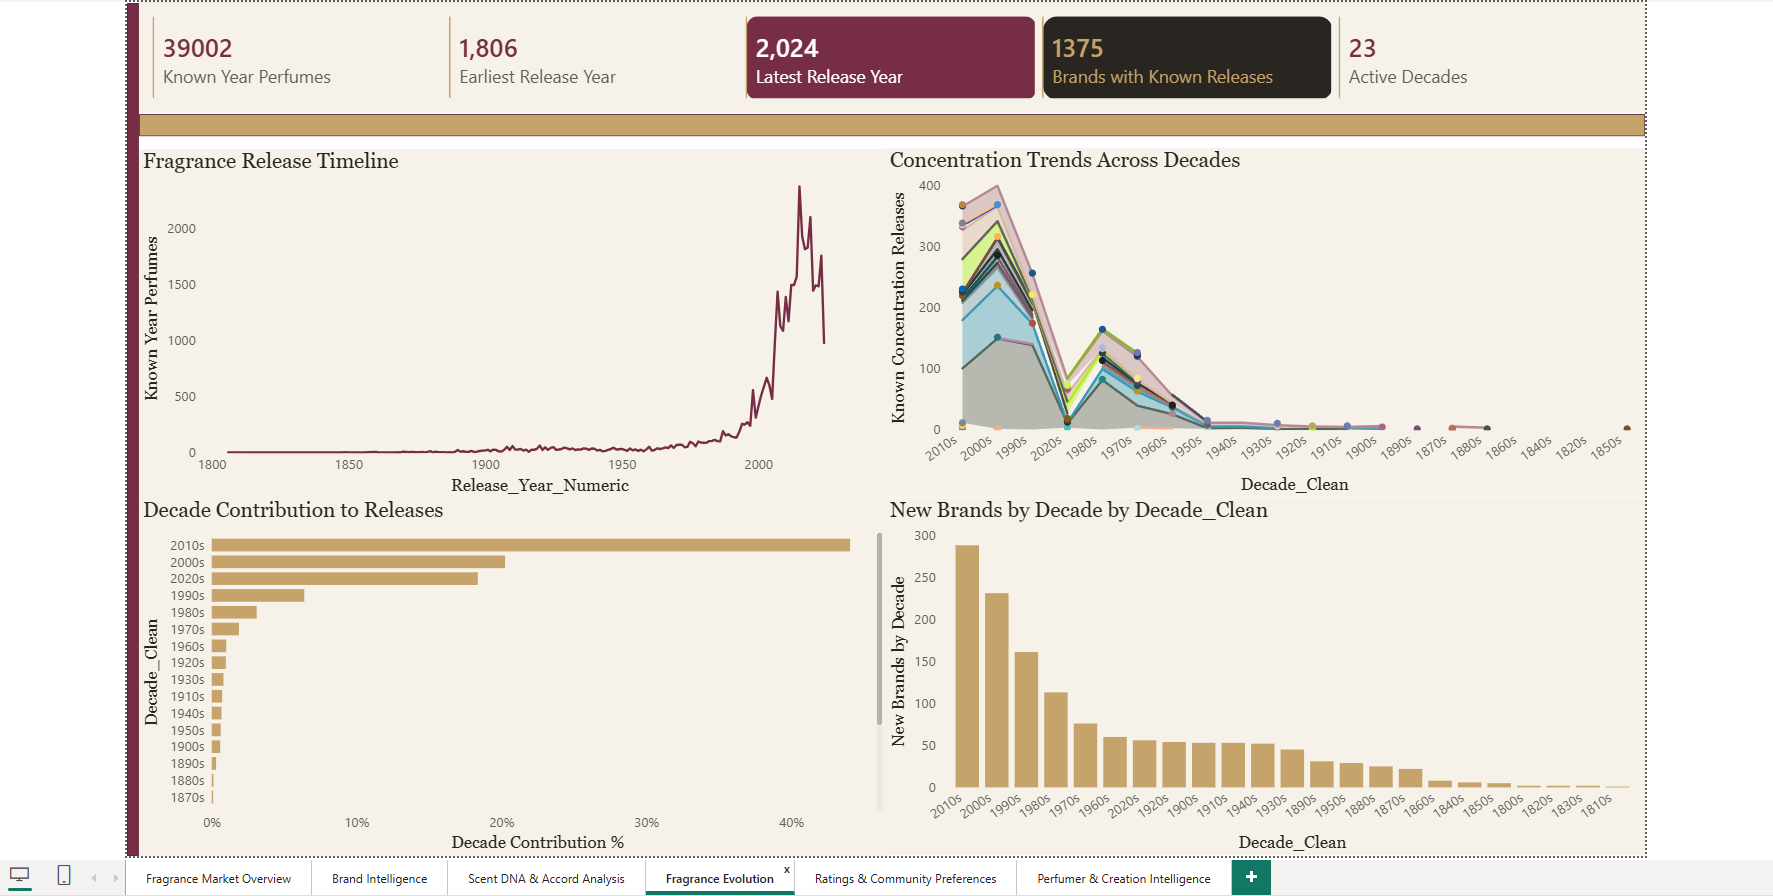

The page's visual inventory and layout, read from the dashboard file:
{"tool":"powerbi","page":{"name":"Fragrance Evolution","canvas":[1920,1080],"ordinal":3},"visuals":[{"type":"cardVisual","fields":{"Data":["Perfumes.Known Year Perfumes","Perfumes.Earliest Release Year","Perfumes.Latest Release Year","Perfumes.Brands with Known Releases","Perfumes.Active Decades"]},"box":[14.8,0,1904.8,140],"z":0},{"type":"lineChart","title":"Fragrance Release Timeline","fields":{"Category":["Perfumes.Release_Year_Numeric"],"Y":["Perfumes.Known Year Perfumes"]},"box":[14.8,185.4,945.7,441.9],"z":1000},{"type":"clusteredBarChart","title":"Decade Contribution to Releases","fields":{"Category":["Perfumes.Decade_Clean"],"Y":["Perfumes.Decade Contribution %"]},"box":[14.8,627.3,945.7,452.7],"z":2000},{"type":"stackedAreaChart","title":"Concentration Trends Across Decades","fields":{"Category":["Perfumes.Decade_Clean"],"Y":["Perfumes.Known Concentration Releases"],"Series":["Perfumes.Concentration"]},"box":[960,185,960,442],"z":3000},{"type":"clusteredColumnChart","fields":{"Category":["Perfumes.Decade_Clean"],"Y":["Perfumes.New Brands by Decade"]},"box":[960,627,960,452],"z":4000},{"type":"shape","box":[0,1.3,14.8,1078.7],"z":5000},{"type":"shape","box":[14.8,141,1904.8,28.2],"z":6000}]}

Visuals, with their boxes on the page's 1920x1080 design canvas (x1, y1, x2, y2). These are canvas units, not pixel positions in the 1773x896 screenshot, which may show the page scaled, cropped or inside an application window:
cardVisual - Perfumes.Known Year Perfumes x Perfumes.Earliest Release Year: [x1=15, y1=0, x2=1920, y2=140]
"Fragrance Release Timeline" lineChart: [x1=15, y1=185, x2=960, y2=627]
"Decade Contribution to Releases" clusteredBarChart: [x1=15, y1=627, x2=960, y2=1080]
"Concentration Trends Across Decades" stackedAreaChart: [x1=960, y1=185, x2=1920, y2=627]
clusteredColumnChart - Perfumes.Decade_Clean x Perfumes.New Brands by Decade: [x1=960, y1=627, x2=1920, y2=1079]
shape: [x1=0, y1=1, x2=15, y2=1080]
shape: [x1=15, y1=141, x2=1920, y2=169]
